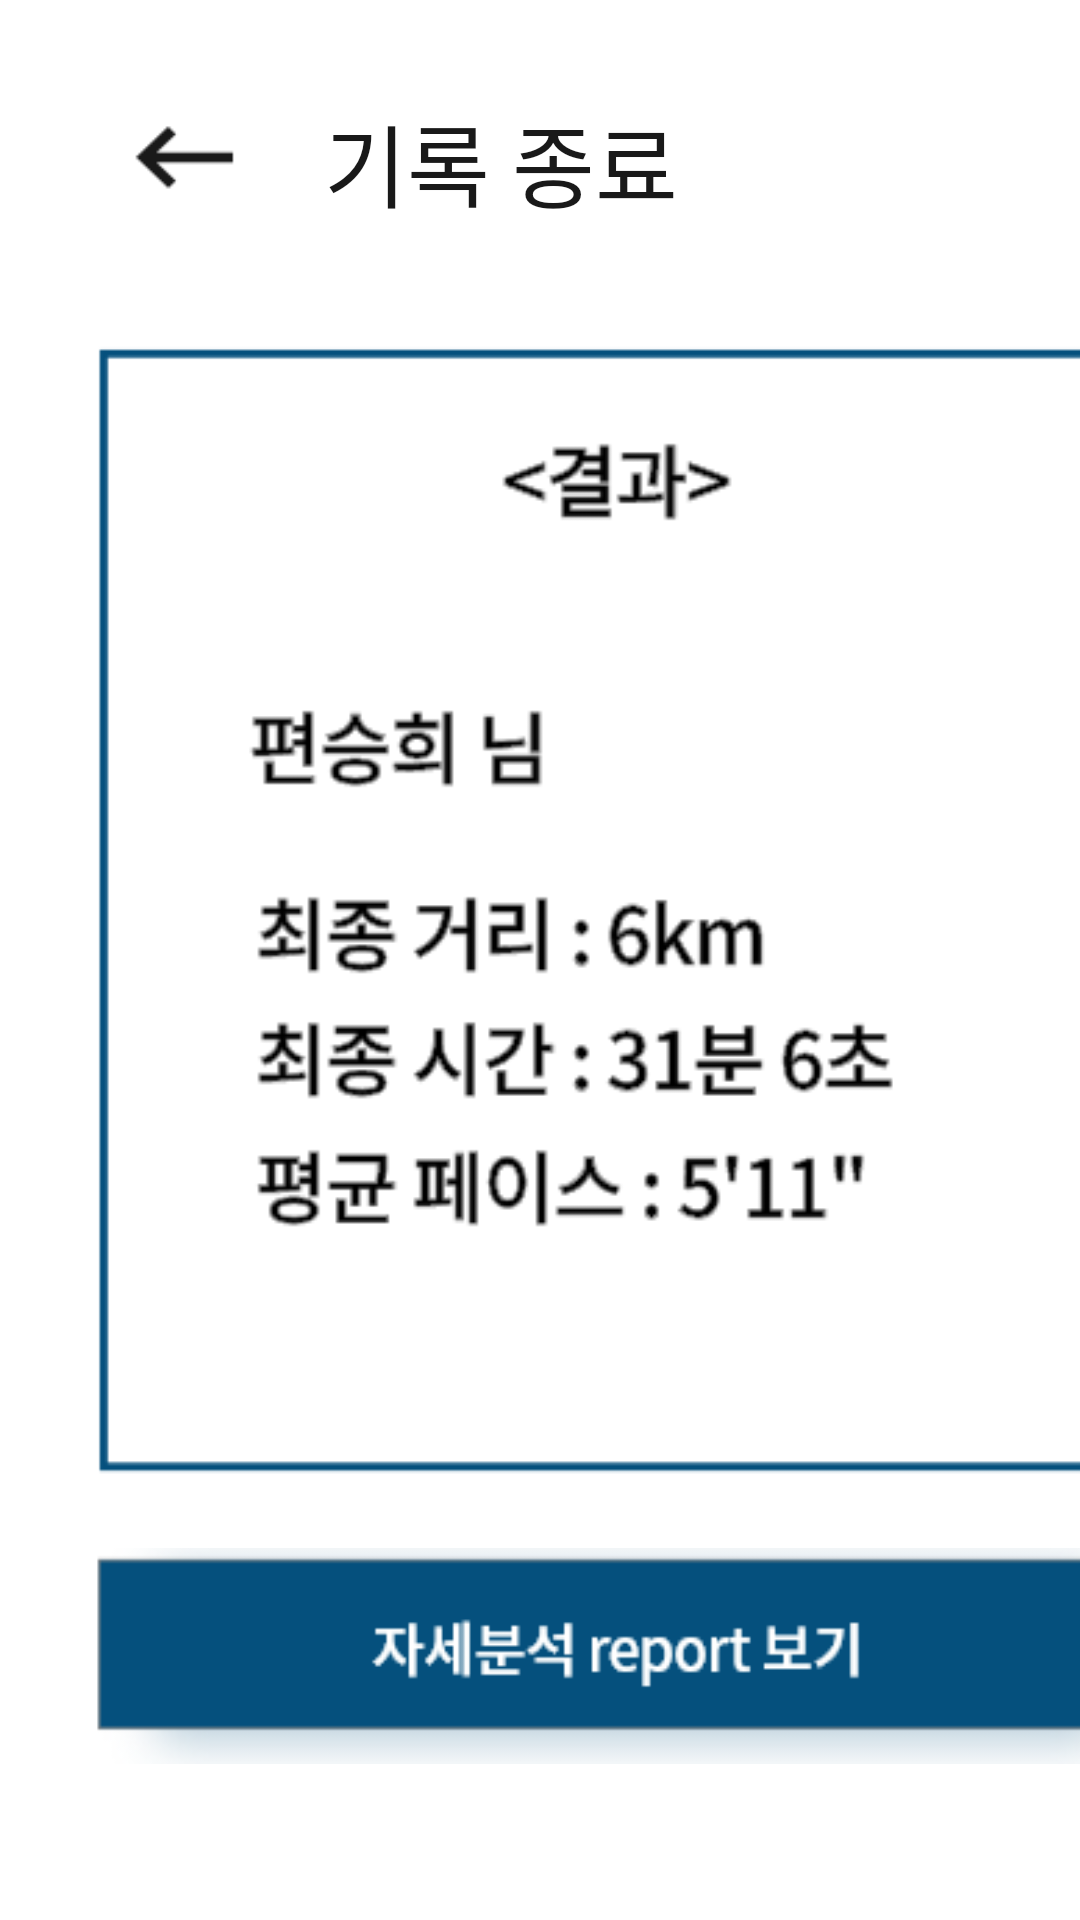

Locate icon controls on the screen. Image size 1080w x 1920h, boxes as box=[x1, y1, x2, y2].
pre: box=[135, 126, 234, 189]
